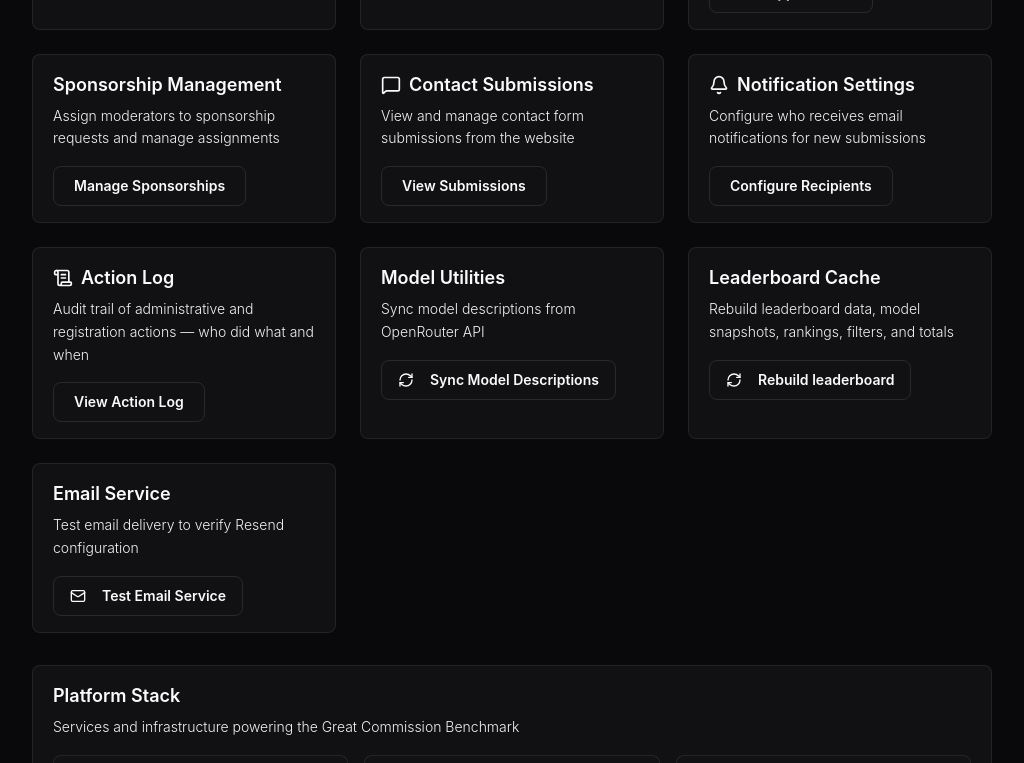
Test case: reports incomplete descriptions after the final batch without claiming full completion
(page scrolled)
Click the button "Sync Model Descriptions" at (498, 380), box top-left (381, 360), bottom-right (616, 400)
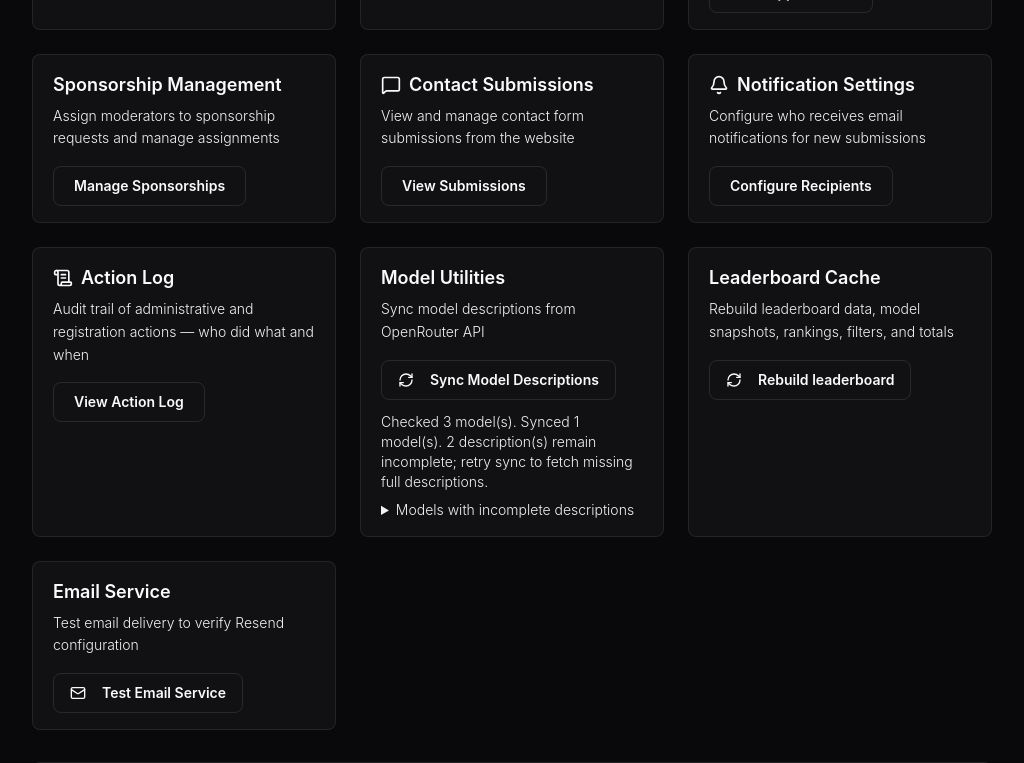
Now the message shows "Checked 3 model(s). Synced 1 model(s). 2 description(s) remain incomplete", box top-left (381, 412), bottom-right (633, 490)
Click the heading "Models with incomplete descriptions" at (512, 510), box top-left (381, 500), bottom-right (643, 520)
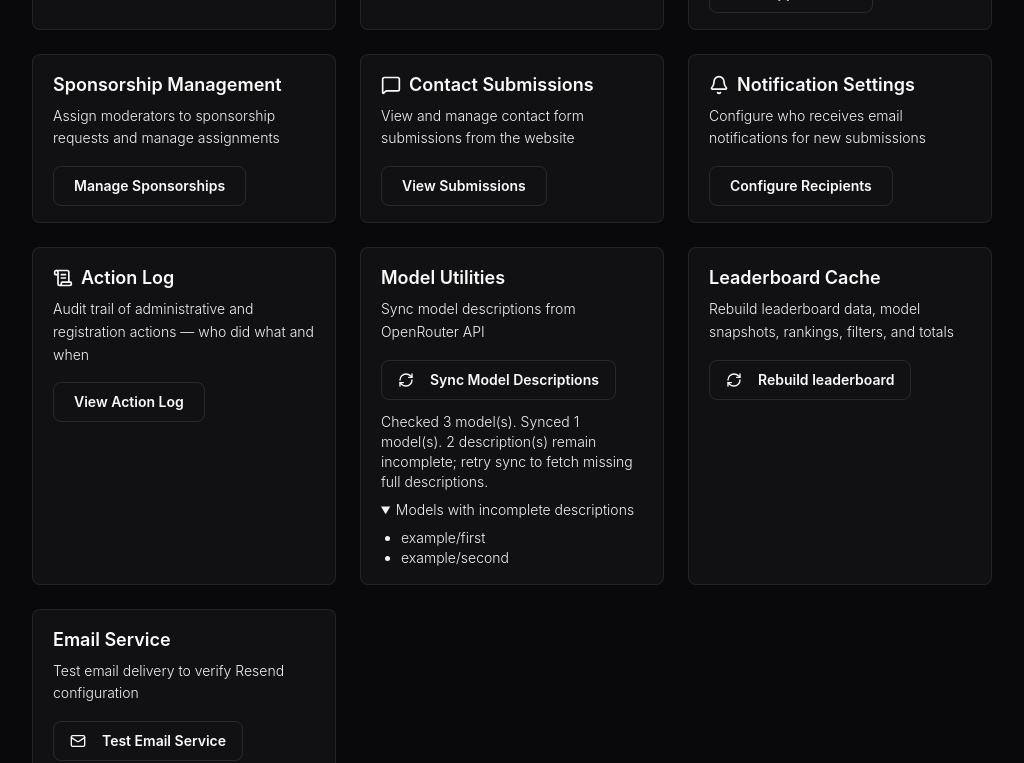
Expected: the button "Sync Model Descriptions" is enabled, top-left (381, 360), bottom-right (616, 400)
Now the list item "example/first" is shown, box top-left (401, 528), bottom-right (485, 546)
Now the list item "example/second" is shown, box top-left (401, 548), bottom-right (509, 566)
